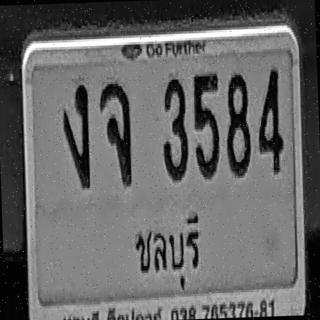A07: (62, 82, 91, 188)
A08: (99, 81, 132, 185)
N03: (160, 77, 189, 180)
N04: (255, 67, 284, 173)
N05: (192, 70, 221, 178)
N08: (224, 72, 251, 176)
P13: (128, 206, 204, 302)
